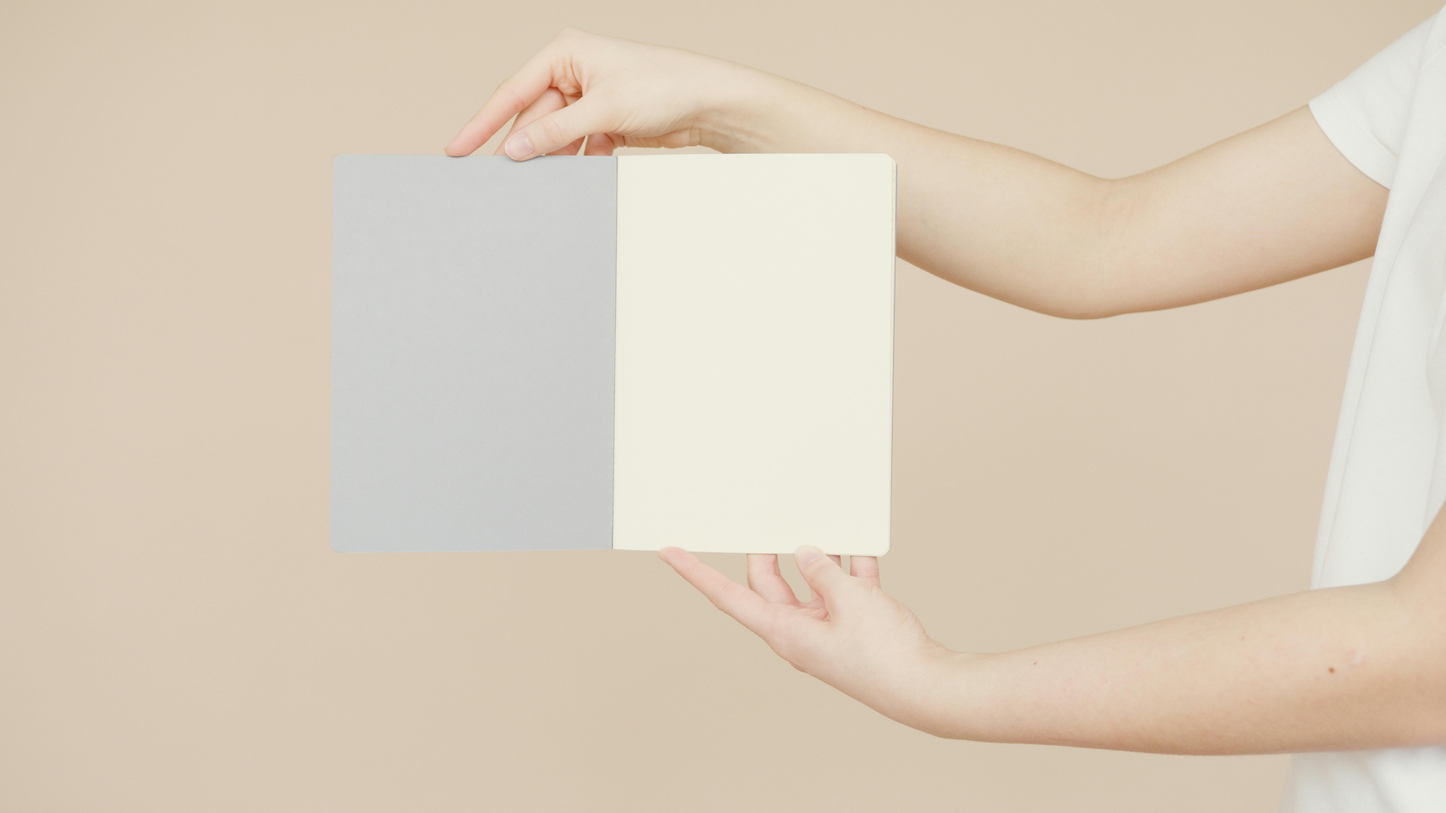paper: (330, 153, 898, 558)
